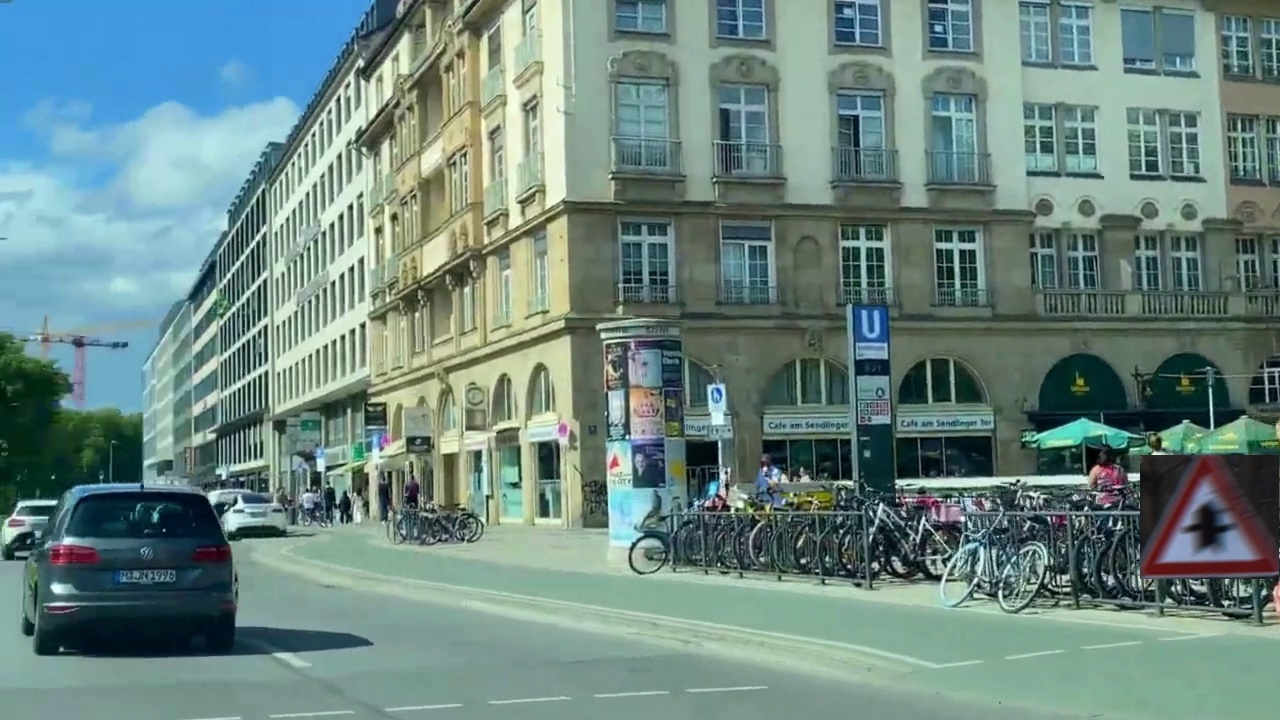Right-of-way: (1140, 455, 1279, 579)
